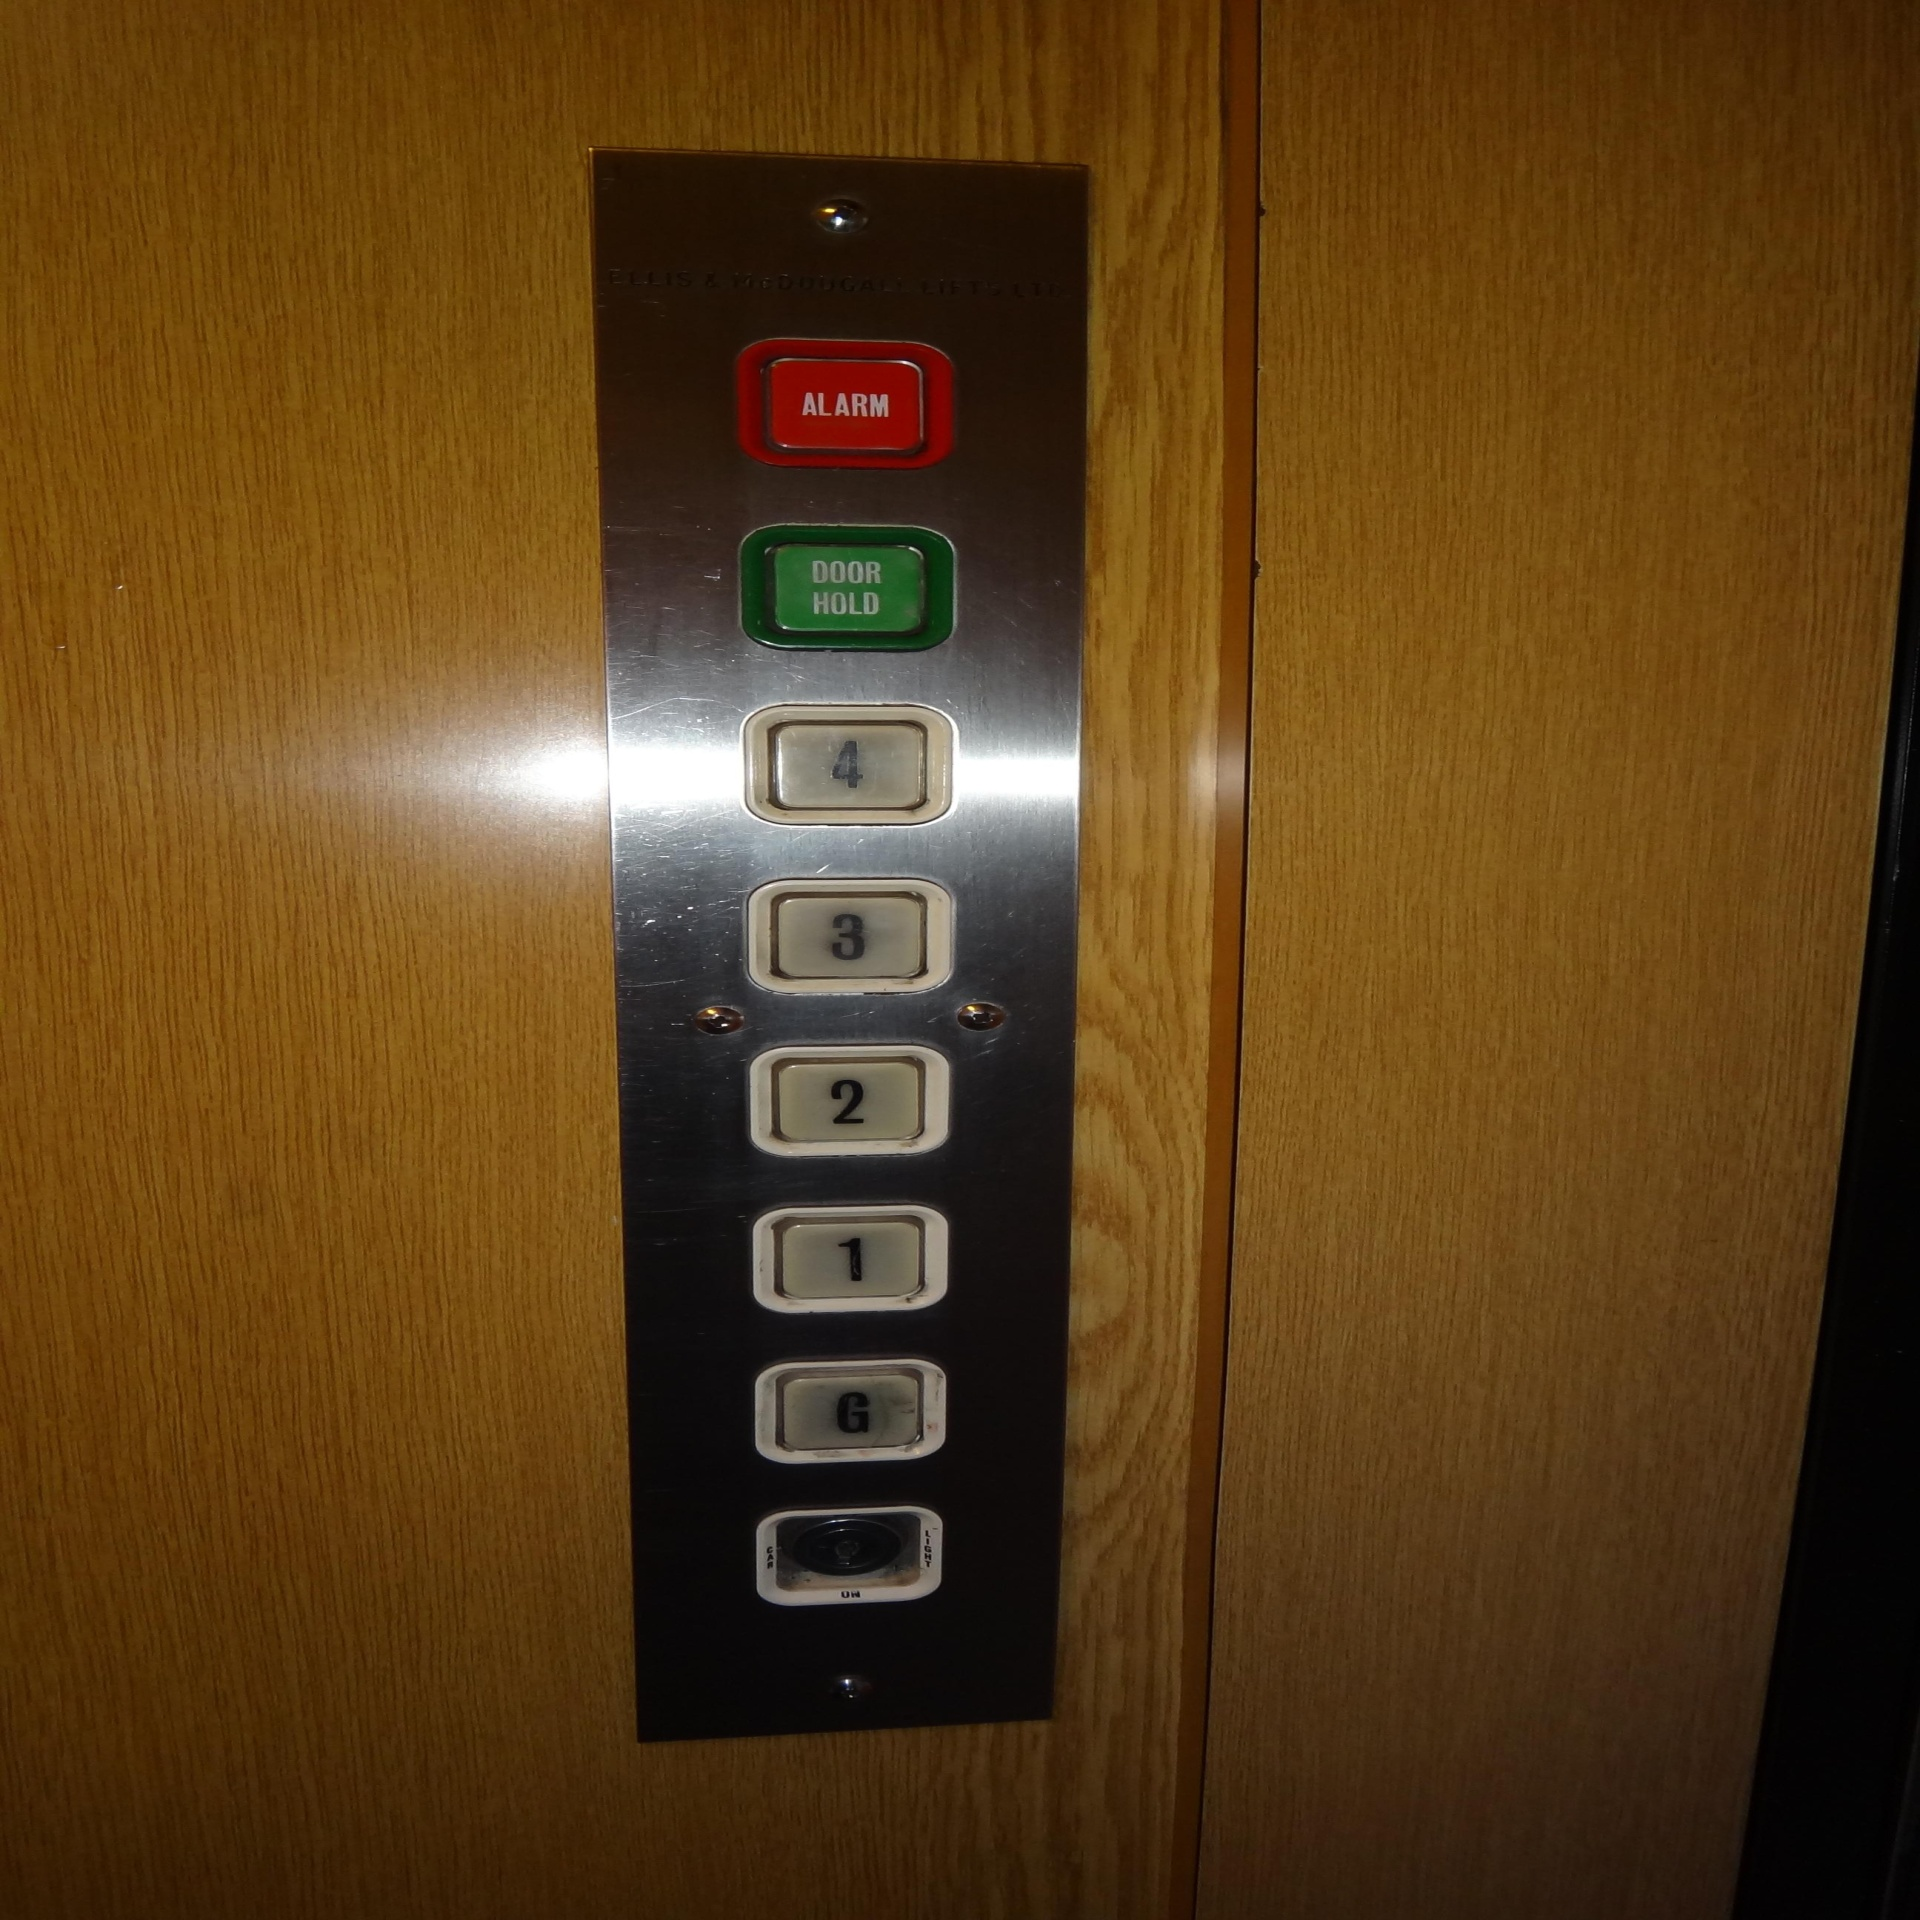1: (747, 1196, 958, 1322)
2: (740, 1037, 958, 1162)
3: (740, 867, 958, 1002)
4: (742, 700, 960, 833)
G: (753, 1350, 956, 1472)
bt_keyhole: (751, 1500, 949, 1616)
text_alarm: (735, 329, 960, 471)
text_door open: (733, 513, 965, 659)
